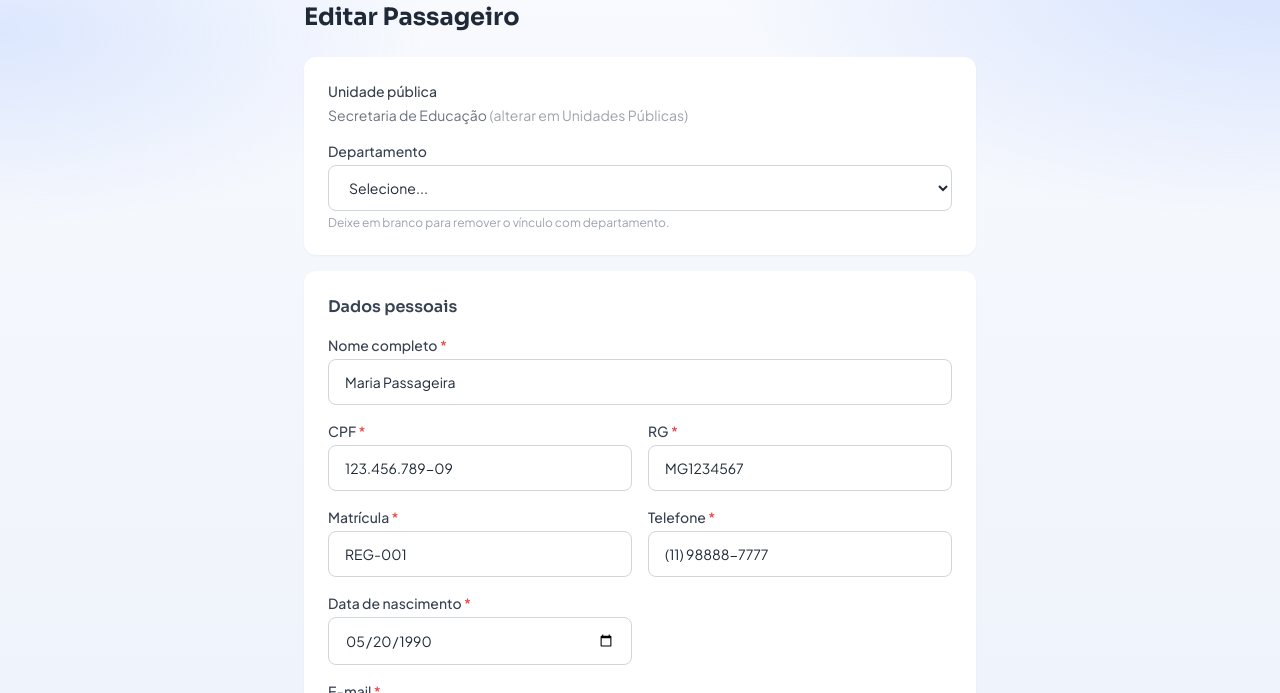
Scenario: PassengerEditPage › shows submit error on API failure without navigating away
Replace the text in the field labelled "Nome completo" with "Maria Passageira Silva" at (640, 382), box [328,359,952,405]
(page scrolled)
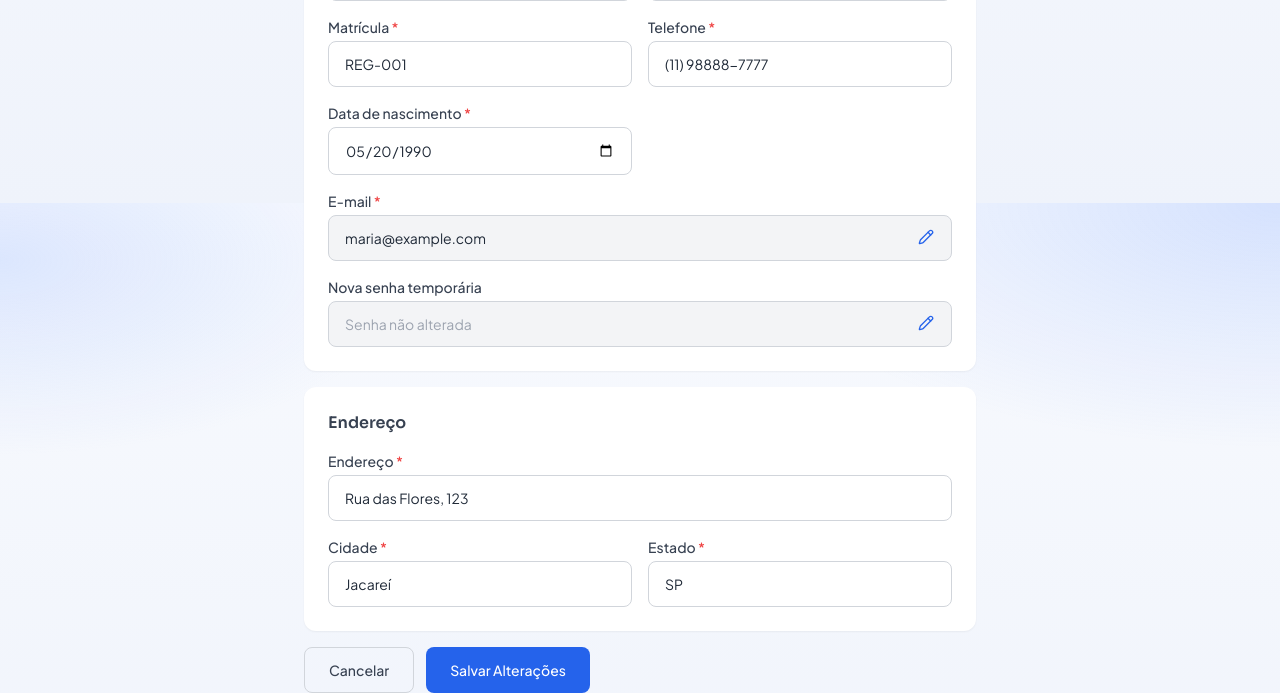
Click the button "Salvar Alterações" at (508, 670), box [426,647,590,692]
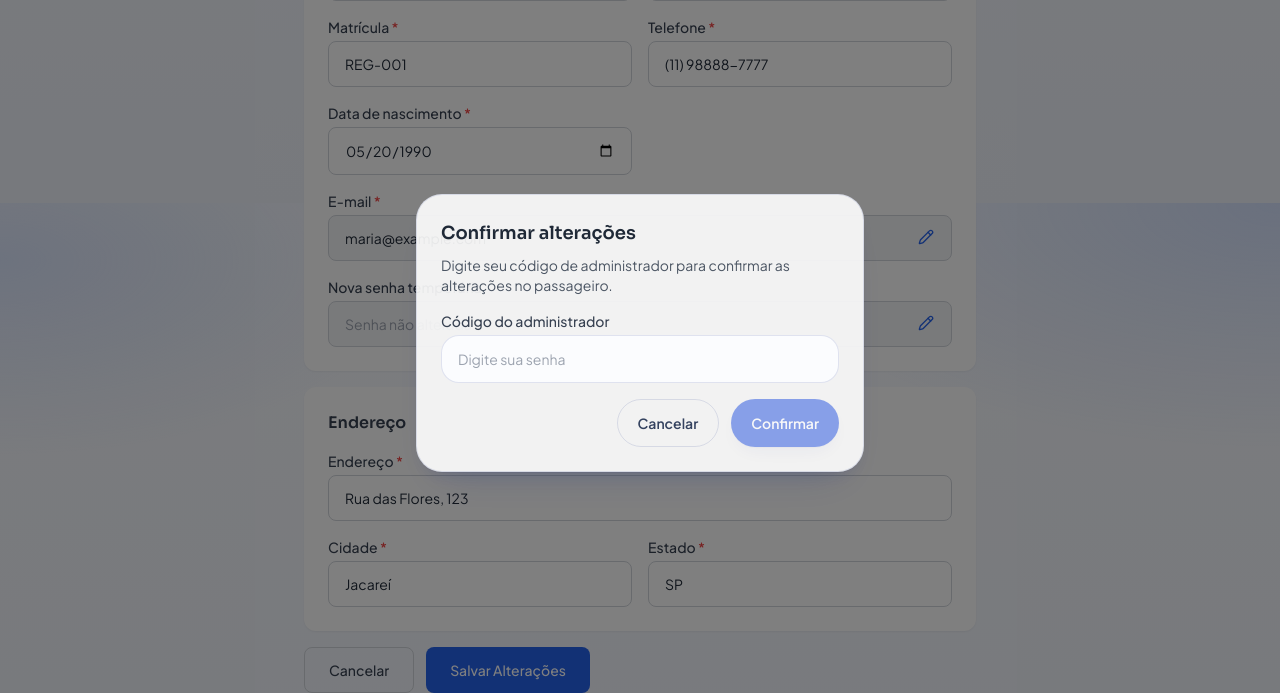
Type "admin-pass" into the password field labelled "Código do administrador" at (640, 359), box [441,335,839,383]
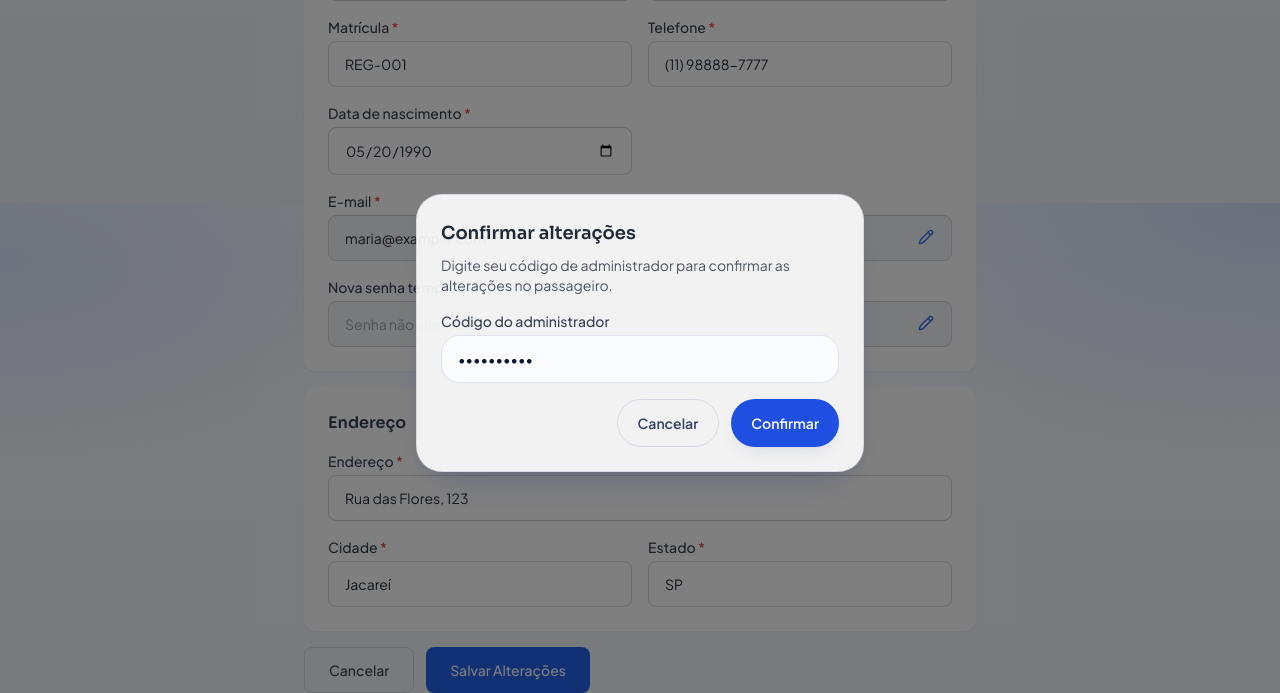
Click the button "Confirmar" at (785, 423), box [731,399,839,447]
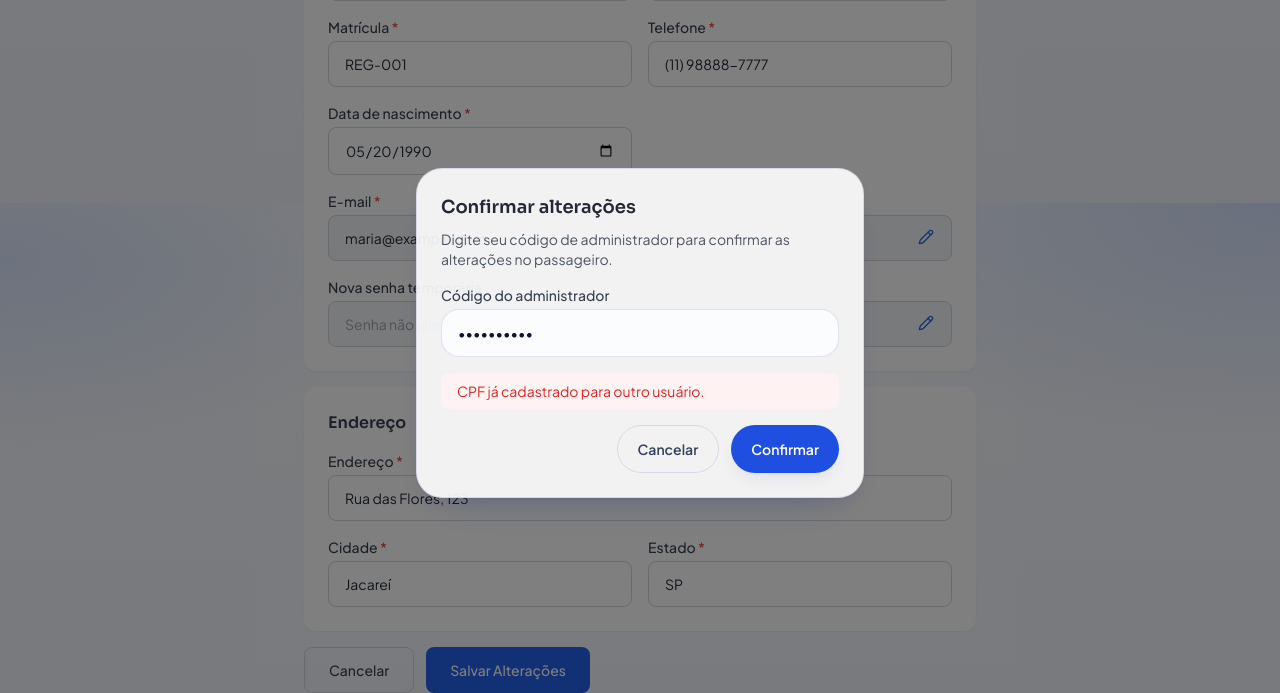
Now the text "CPF já cadastrado para outro usuário." is shown, box [441,373,839,409]
